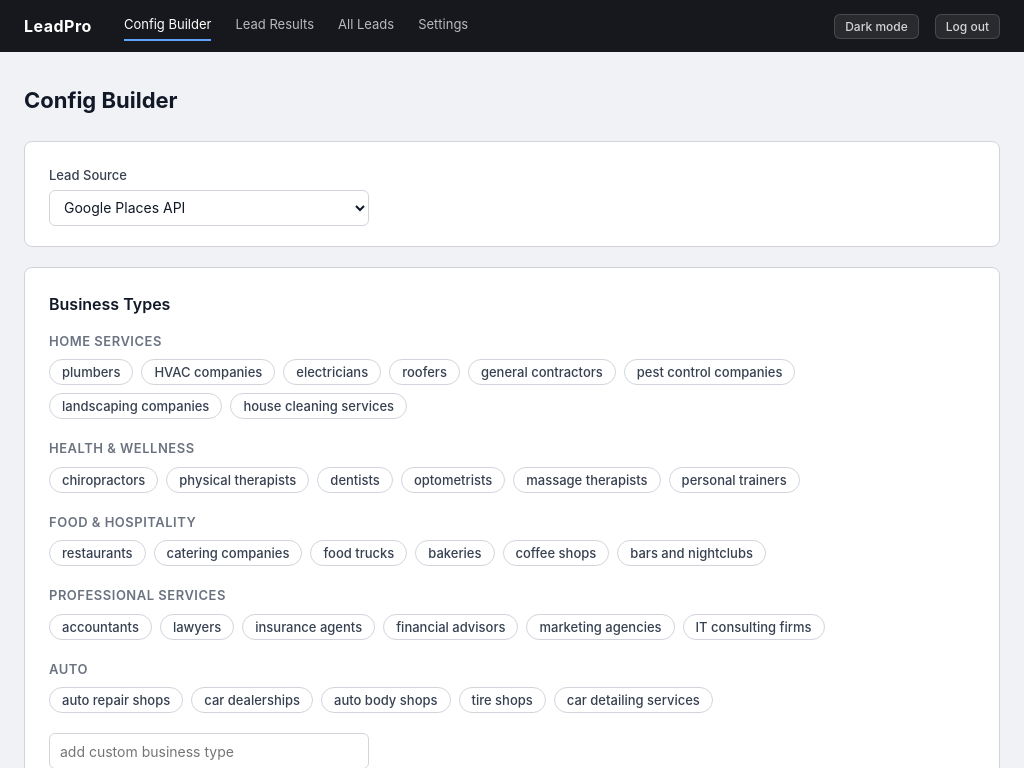
Test case: App - logout button › clicking logout navigates to /login
Click the button "Log out" at [967, 26], box [935,14,1000,38]
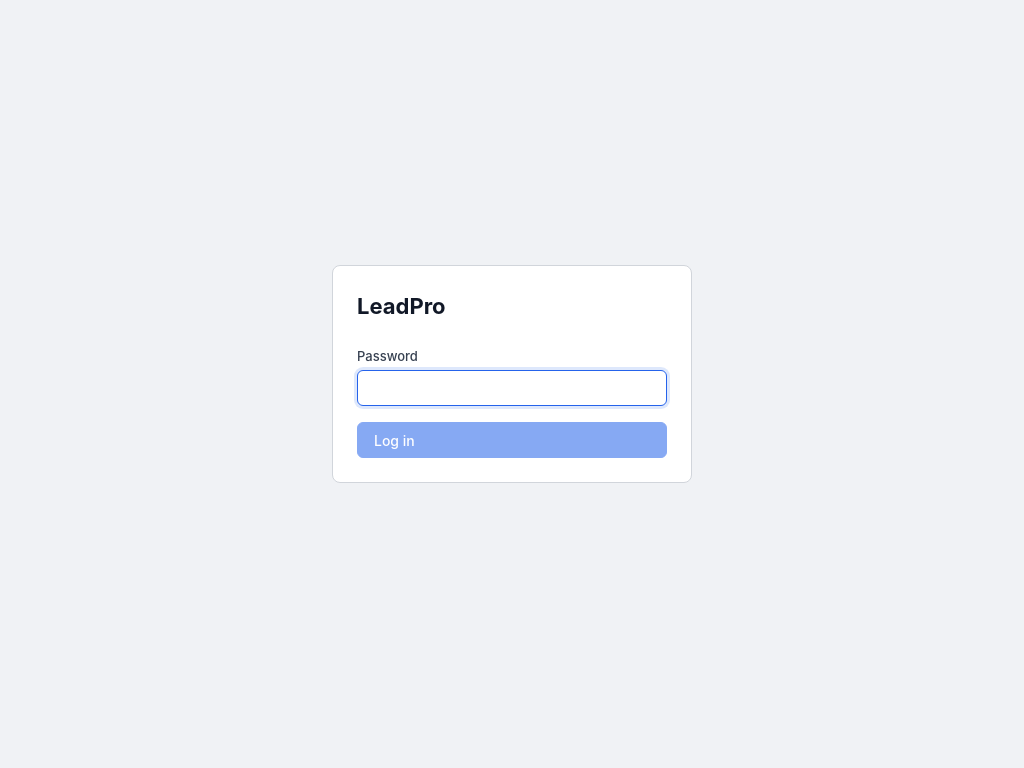
Expected: the password field labelled "Password" is shown, [357,370,667,406]
